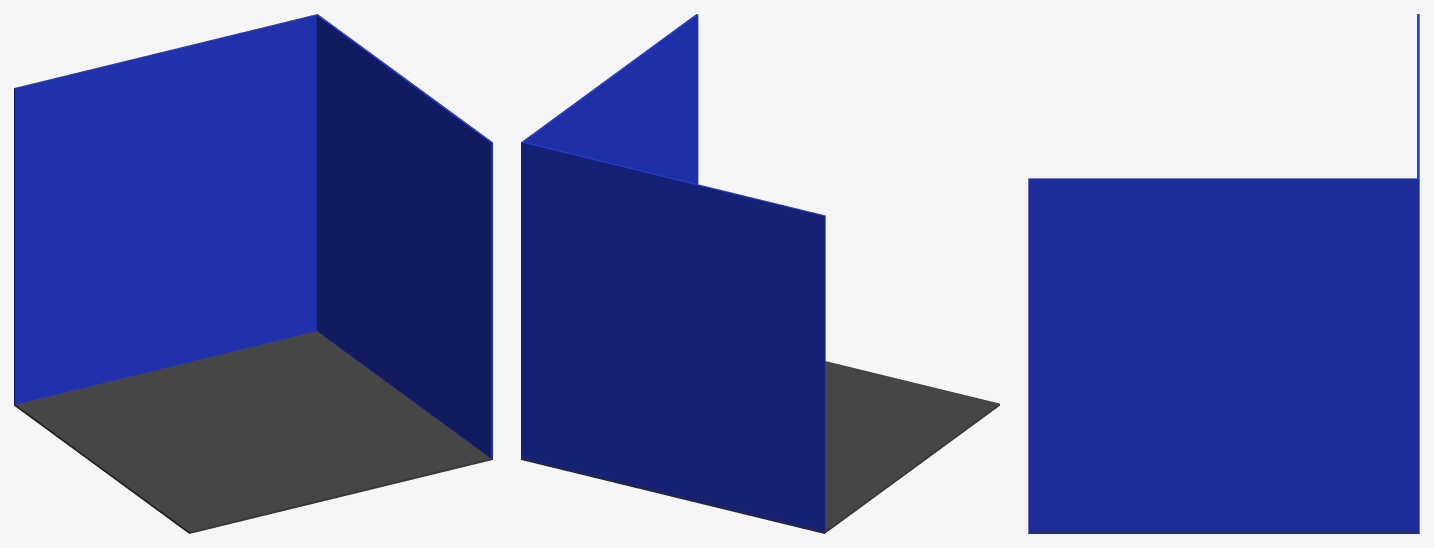
The model's file is WallScale_150x150x150.fbx.
3 views of the same model, side by side, from view 1: azimuth 30°, elevation 25°; view 2: azimuth 150°, elevation 25°; view 3: azimuth 270°, elevation 25° (orthographic). The views are drawn at different scales.
Visible parts, largest first — view 1: Matrix; view 2: Matrix; view 3: Matrix.
Part boxes in pixels (left/top/right/bottom): Matrix: left=14, top=14, right=492, bottom=533; Matrix: left=521, top=14, right=999, bottom=533; Matrix: left=1028, top=14, right=1419, bottom=533.
Bounding box in the file's own units: 150 × 150 × 150.
Materials: 1 (1 with a texture image).
